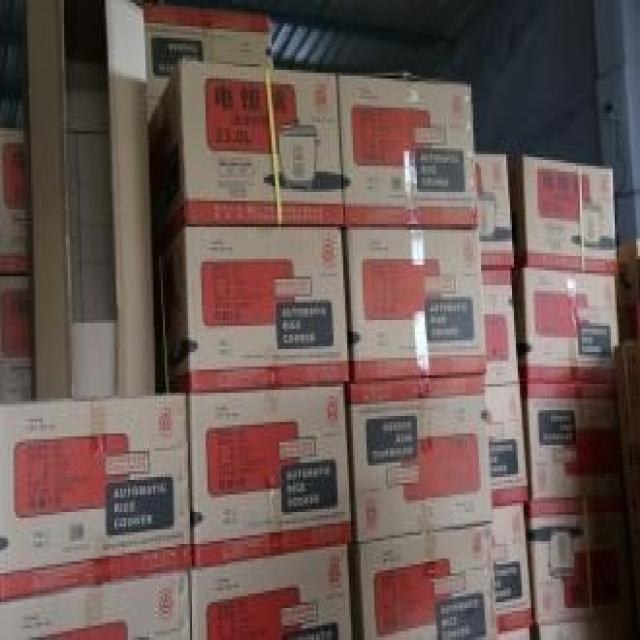box: (23, 0, 157, 401), (0, 396, 190, 602), (188, 384, 355, 570), (175, 227, 349, 393), (180, 61, 343, 227), (349, 375, 493, 541), (336, 73, 477, 227), (347, 230, 487, 381), (359, 524, 495, 640), (192, 544, 353, 640), (144, 6, 275, 122), (0, 570, 190, 640), (520, 154, 619, 273), (528, 381, 626, 500), (526, 506, 613, 640), (522, 268, 621, 384), (493, 500, 533, 634), (485, 384, 529, 503), (0, 128, 33, 276), (477, 151, 516, 268), (481, 268, 518, 387), (0, 276, 35, 401)
